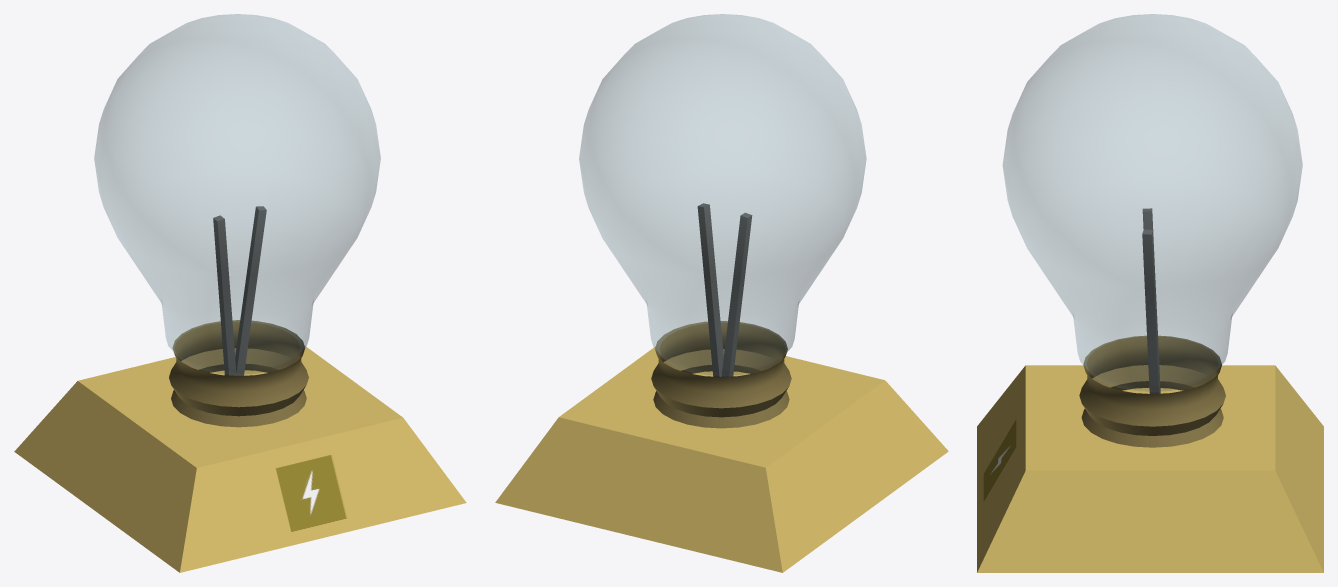
Rendered from lightBulb.glb.
3 renders of one model, left to right at view 1: azimuth 30°, elevation 25°; view 2: azimuth 150°, elevation 25°; view 3: azimuth 270°, elevation 25°, orthographic. The views are drawn at different scales.
Parts seen in each view (by area): view 1: Object_7; view 2: Object_7; view 3: Object_7.
Boxes of the visible parts, x1,y1,x2,y2 form: Object_7: (14,14,466,572); Object_7: (495,14,948,572); Object_7: (977,14,1323,572).
Bounding box in the file's own units: 1 × 1.5 × 1.
4 materials, 1 textured.
